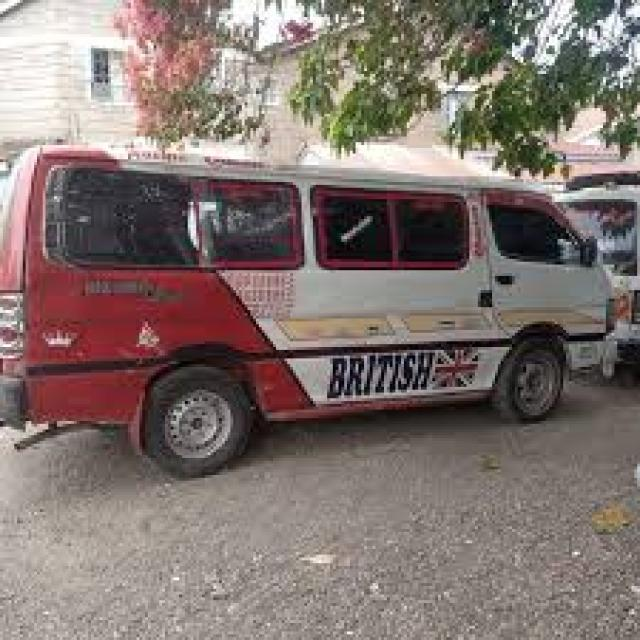matatu: (1, 94, 632, 525)
